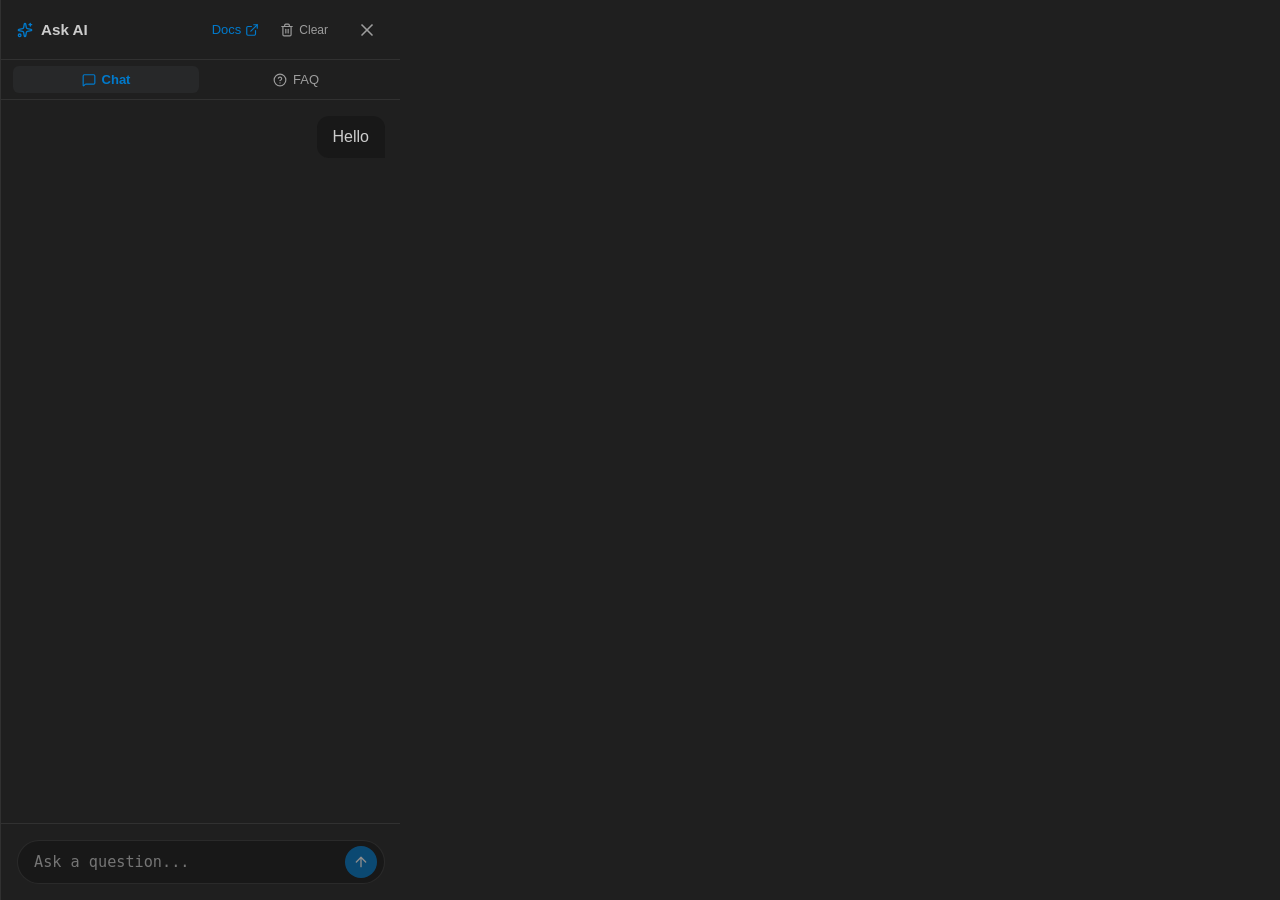
Assistant Clear Chat Feature › cancelling modal does not clear messages
Click the button with aria-label "clear chat history".
click(304, 30)  # box [271, 18, 337, 42]
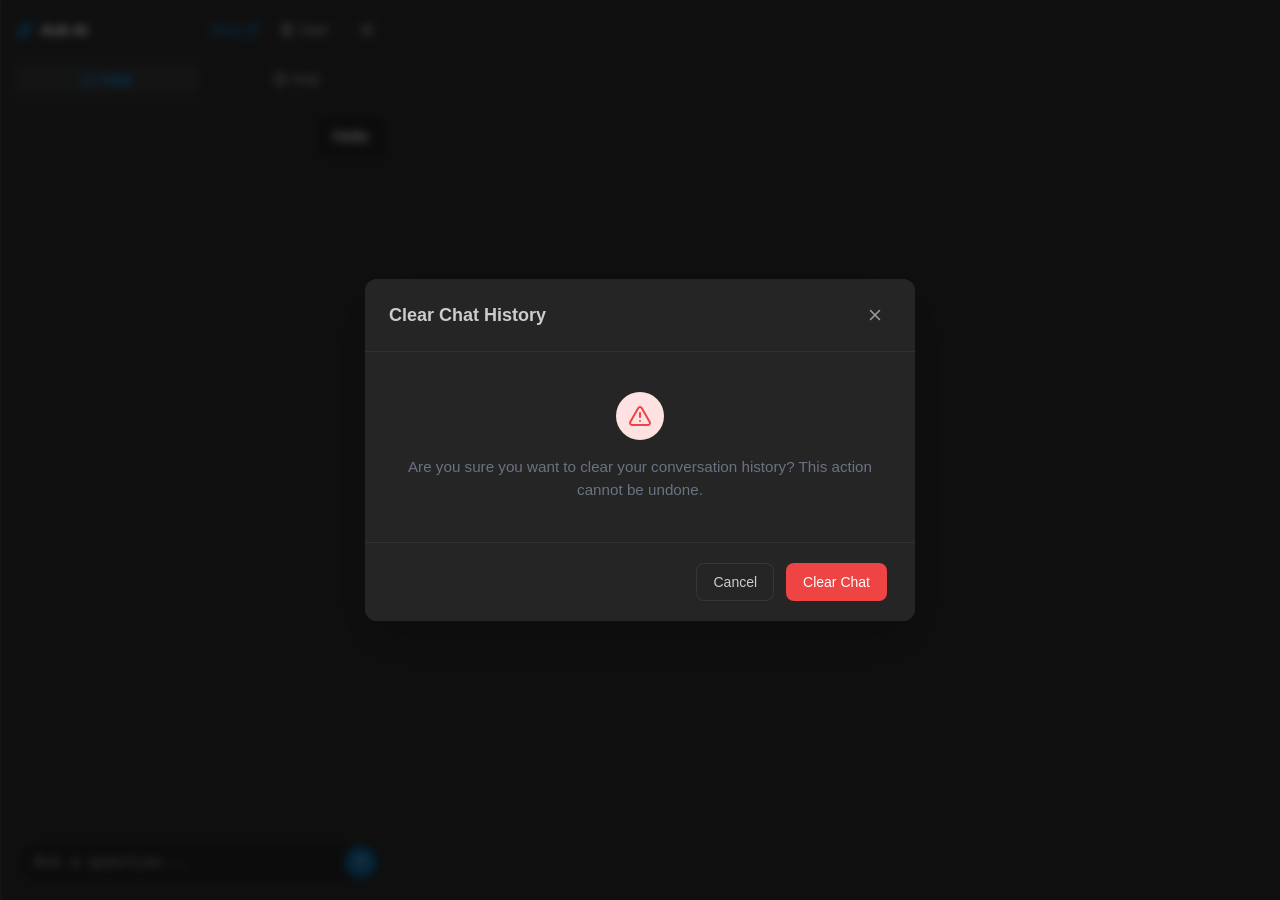
Click the button "Cancel".
click(735, 582)  # box [696, 563, 774, 601]
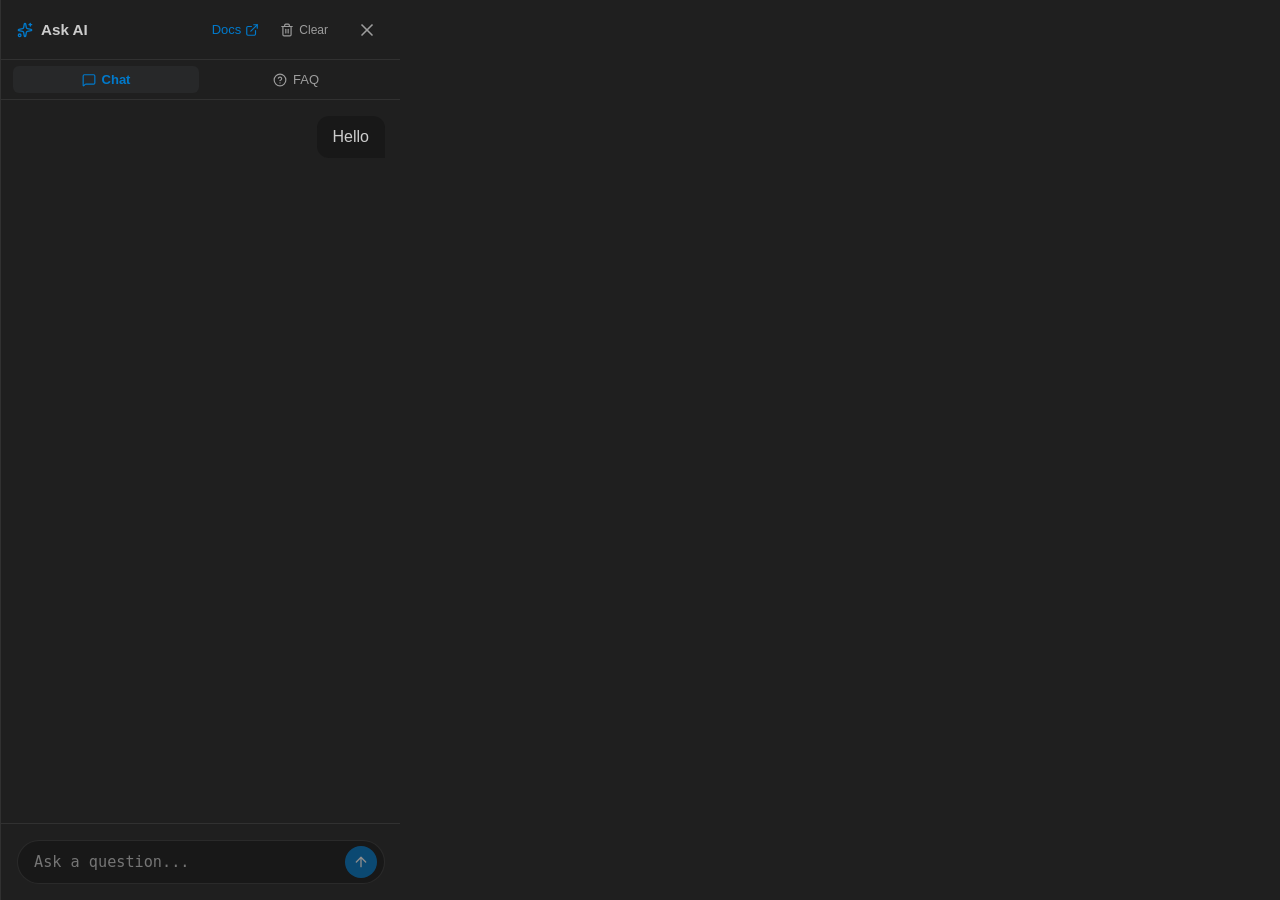
Expected: the heading "Clear Chat History" is gone
